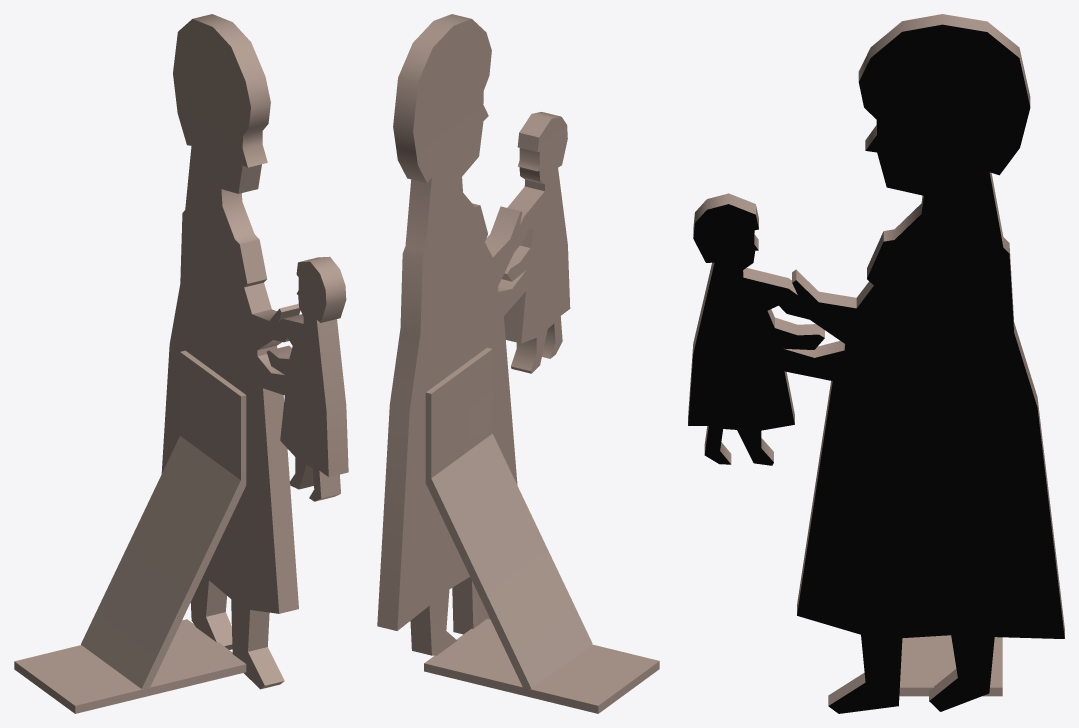
Rendered from Jente 2.FBX.
3 renders of one model, left to right at view 1: azimuth 30°, elevation 25°; view 2: azimuth 150°, elevation 25°; view 3: azimuth 270°, elevation 25°, orthographic. The views are drawn at different scales.
Visible parts, largest first — view 1: Jente 2; view 2: Jente 2; view 3: Jente 2.
Part boxes in pixels (x1=…): Jente 2: x1=14, y1=14, x2=348, y2=713; Jente 2: x1=377, y1=14, x2=659, y2=713; Jente 2: x1=688, y1=14, x2=1064, y2=713.
Size of the model in its own units: 28.83 by 90.55 by 44.84.
